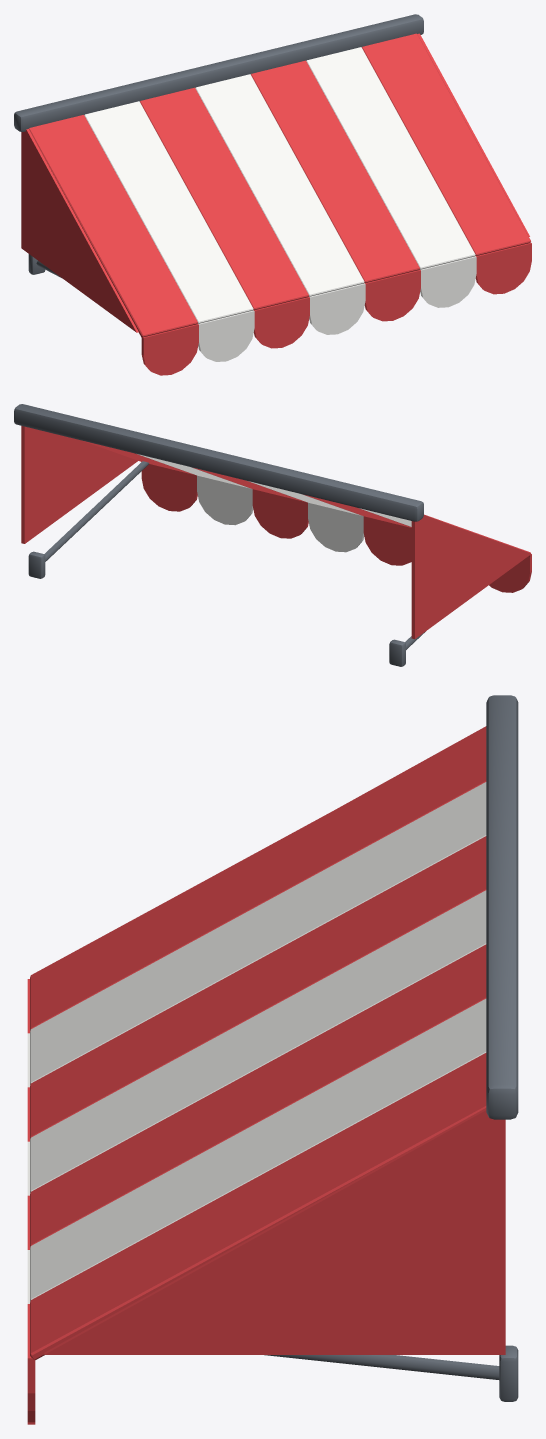
The model's file is toldo_janela.glb.
3 renders of one model, top to bottom at view 1: azimuth 30°, elevation 25°; view 2: azimuth 150°, elevation 25°; view 3: azimuth 270°, elevation 25°, orthographic. The views are drawn at different scales.
Parts seen in each view (by area): view 1: toldo_janela; view 2: toldo_janela; view 3: toldo_janela.
Part boxes in pixels (box(x1,y1,x2,y2)): toldo_janela: box(14, 14, 531, 375); toldo_janela: box(14, 404, 531, 666); toldo_janela: box(27, 695, 518, 1424).
Size of the model in its own units: 1.46 by 0.63 by 0.766.
1 material, 1 textured.
